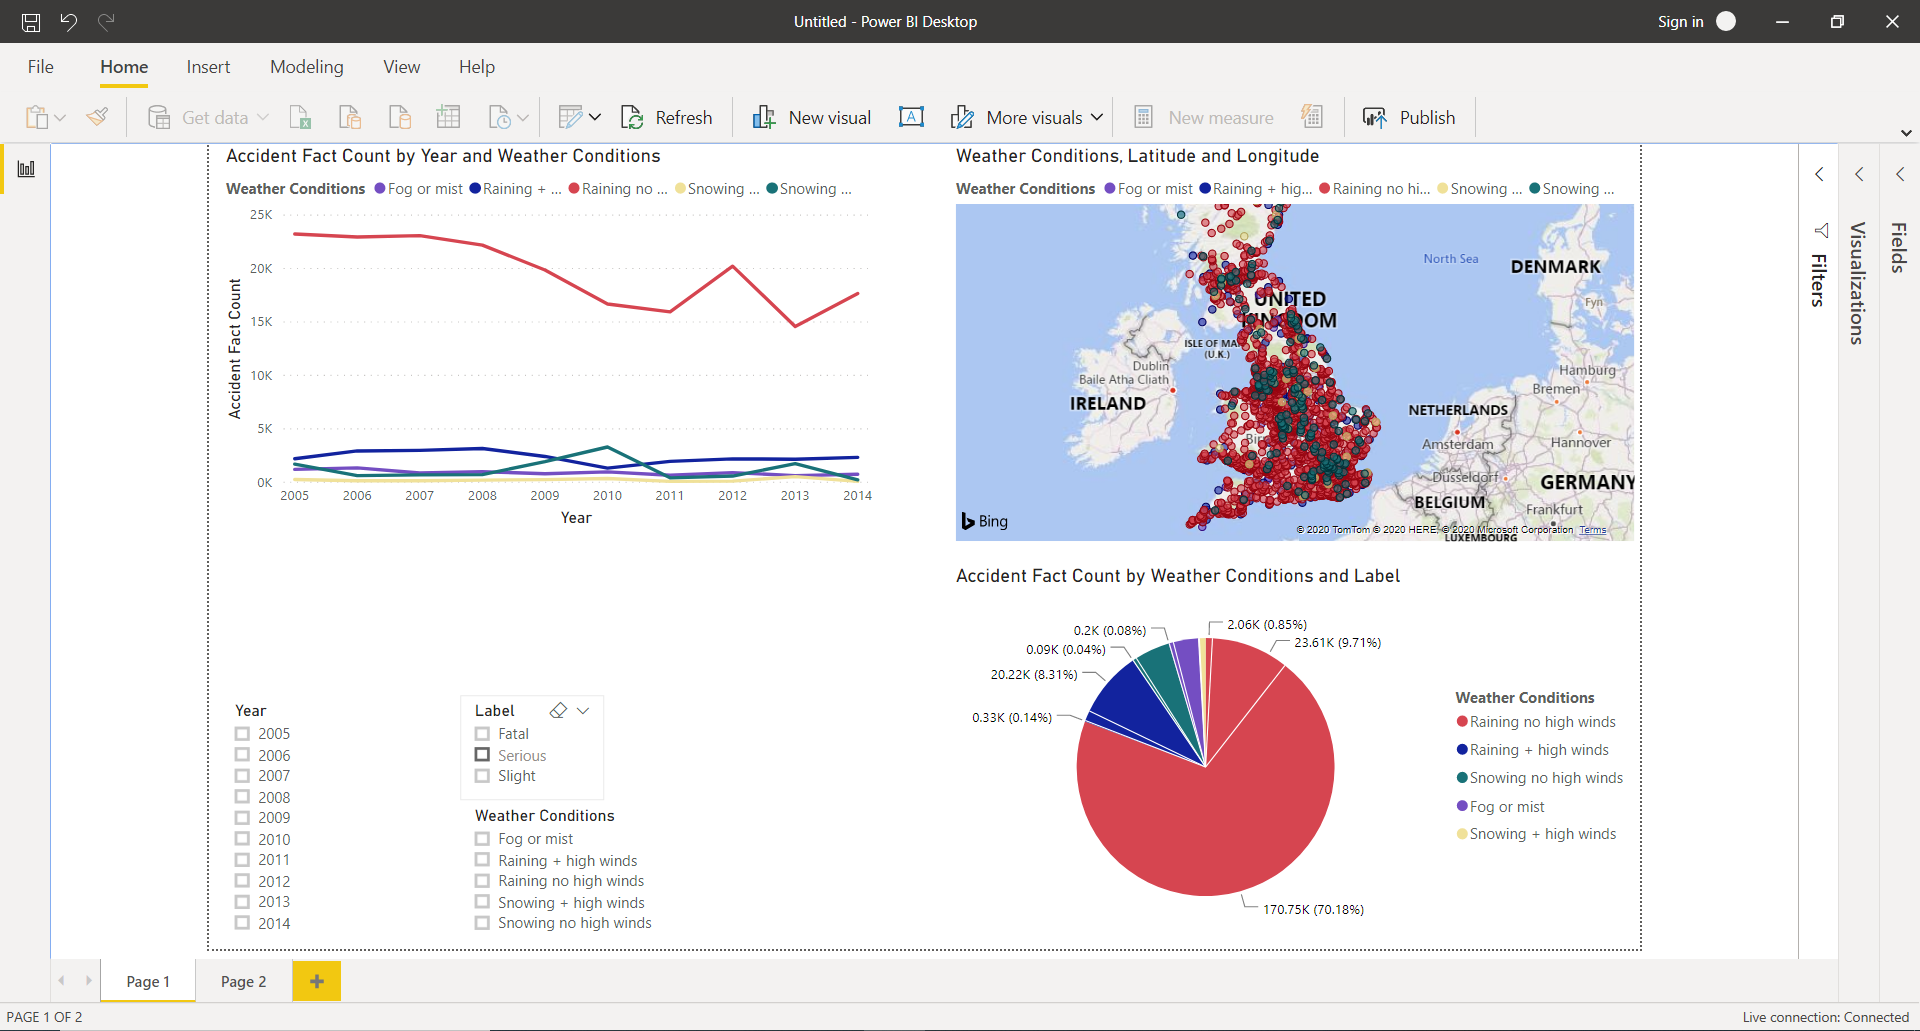

This screenshot's page, from the dashboard's own definition file:
{"tool":"powerbi","page":{"name":"Page 1","canvas":[1280,720],"ordinal":0},"visuals":[{"type":"lineChart","fields":{"Y":["Accident Fact.Accident Fact Count"],"Category":["Date Dim.Year"],"Series":["Accident Conditions Dim.Weather Conditions"]},"box":[9.6,0,588.6,347.1],"z":0},{"type":"slicer","fields":{"Values":["Date Dim.Year"]},"box":[9.6,493.4,215.2,226.1],"z":1000},{"type":"slicer","fields":{"Values":["Accident Conditions Dim.Weather Conditions"]},"box":[224.8,586.6,212.4,132.9],"z":2000},{"type":"map","fields":{"Y":["Location Dim.Latitude"],"X":["Location Dim.Longitude"],"Series":["Accident Conditions Dim.Weather Conditions"]},"box":[663,0,617,360],"z":3000},{"type":"pieChart","fields":{"Category":["Accident Conditions Dim.Weather Conditions"],"Y":["Accident Fact.Accident Fact Count"],"Series":["Accident Severity.Label"]},"box":[663.3,375.5,616.7,344],"z":4001},{"type":"slicer","fields":{"Values":["Accident Severity.Label"]},"box":[224.8,493.4,128.8,93.2],"z":4002}]}

Visuals, with their boxes on the page's 1280x720 design canvas (x1, y1, x2, y2). These are canvas units, not pixel positions in the 1920x1031 screenshot, which may show the page scaled, cropped or inside an application window:
lineChart - Accident Fact.Accident Fact Count x Date Dim.Year: crop(10, 0, 598, 347)
slicer - Date Dim.Year: crop(10, 493, 225, 720)
slicer - Accident Conditions Dim.Weather Conditions: crop(225, 587, 437, 720)
map - Location Dim.Latitude x Location Dim.Longitude: crop(663, 0, 1280, 360)
pieChart - Accident Conditions Dim.Weather Conditions x Accident Fact.Accident Fact Count: crop(663, 376, 1280, 720)
slicer - Accident Severity.Label: crop(225, 493, 354, 587)
